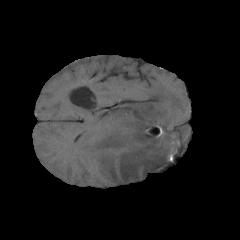glioma: (82, 83, 190, 183)
